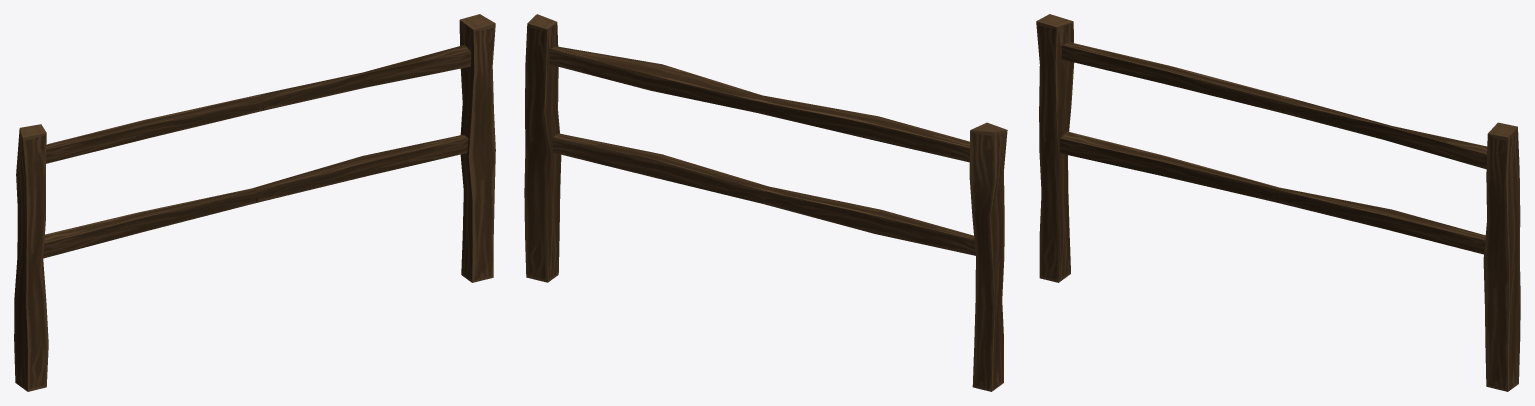
Rendered from FenceEnd01_Geo.fbx.
3 views of the same model, side by side, from view 1: azimuth 30°, elevation 25°; view 2: azimuth 150°, elevation 25°; view 3: azimuth 330°, elevation 25° (orthographic).
Visible parts, largest first — view 1: FenceEnd014_Geo, FenceEnd012_Geo, FenceEnd013_Geo, FenceEnd011_Geo; view 2: FenceEnd013_Geo, FenceEnd014_Geo, FenceEnd012_Geo, FenceEnd011_Geo; view 3: FenceEnd012_Geo, FenceEnd014_Geo, FenceEnd013_Geo, FenceEnd011_Geo.
Boxes of the visible parts, <box> form: FenceEnd014_Geo: <box>43,134,468,258</box>; FenceEnd012_Geo: <box>459,14,495,282</box>; FenceEnd013_Geo: <box>46,45,471,163</box>; FenceEnd011_Geo: <box>14,124,48,391</box>; FenceEnd013_Geo: <box>549,46,969,162</box>; FenceEnd014_Geo: <box>552,133,975,255</box>; FenceEnd012_Geo: <box>524,14,561,282</box>; FenceEnd011_Geo: <box>969,122,1007,391</box>; FenceEnd012_Geo: <box>1483,122,1520,391</box>; FenceEnd014_Geo: <box>1059,131,1485,254</box>; FenceEnd013_Geo: <box>1061,42,1487,169</box>; FenceEnd011_Geo: <box>1036,14,1074,282</box>.
Bounding box in the file's own units: 186 × 96.83 × 10.08.
